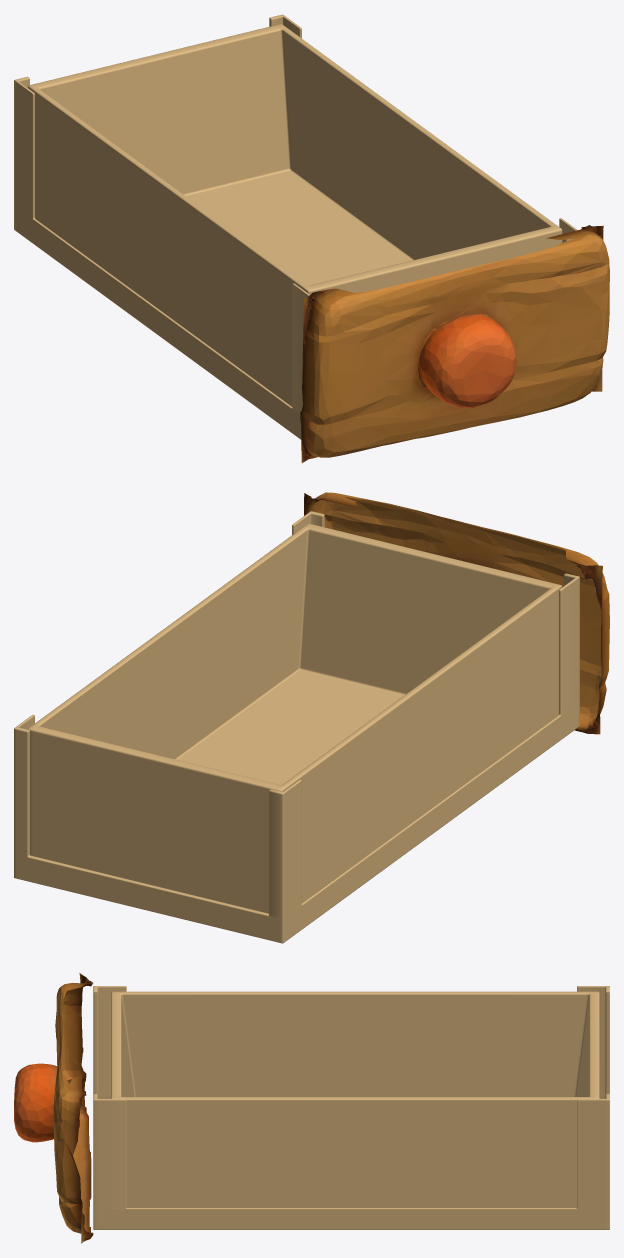
The model's file is drawer_bottom.glb.
3 views of the same model, one above another, from view 1: azimuth 30°, elevation 25°; view 2: azimuth 150°, elevation 25°; view 3: azimuth 270°, elevation 25° (orthographic). The views are drawn at different scales.
Visible parts, largest first — view 1: prefab_drawer_body_2, source_front_cap_0; view 2: prefab_drawer_body_2, source_front_cap_0; view 3: prefab_drawer_body_2, source_front_cap_0.
Boxes of the visible parts, left/top/right/bottom form: prefab_drawer_body_2: left=14, top=14, right=577, bottom=439; source_front_cap_0: left=300, top=225, right=609, bottom=462; prefab_drawer_body_2: left=14, top=511, right=579, bottom=943; source_front_cap_0: left=304, top=492, right=609, bottom=734; prefab_drawer_body_2: left=93, top=986, right=609, bottom=1229; source_front_cap_0: left=14, top=973, right=93, bottom=1243.
Size of the model in its own units: 0.1547 by 0.0824 by 0.3073.
Materials: 2 (1 with a texture image).
